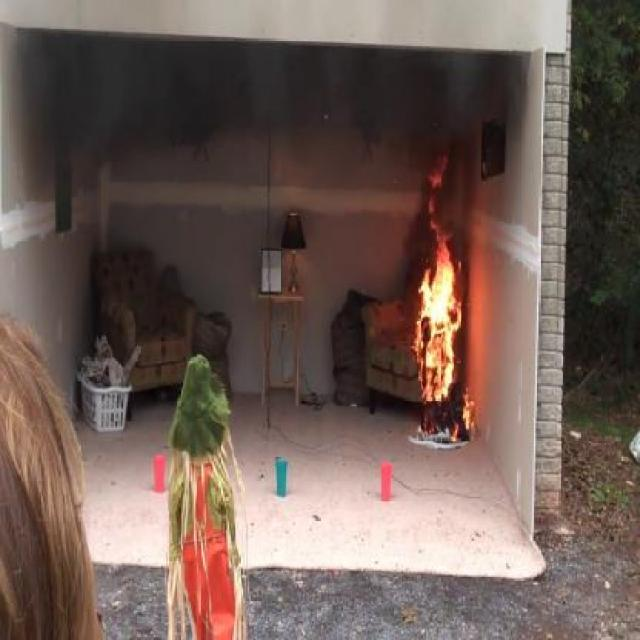fire: (404, 218, 472, 430)
smoke: (47, 27, 450, 135)
